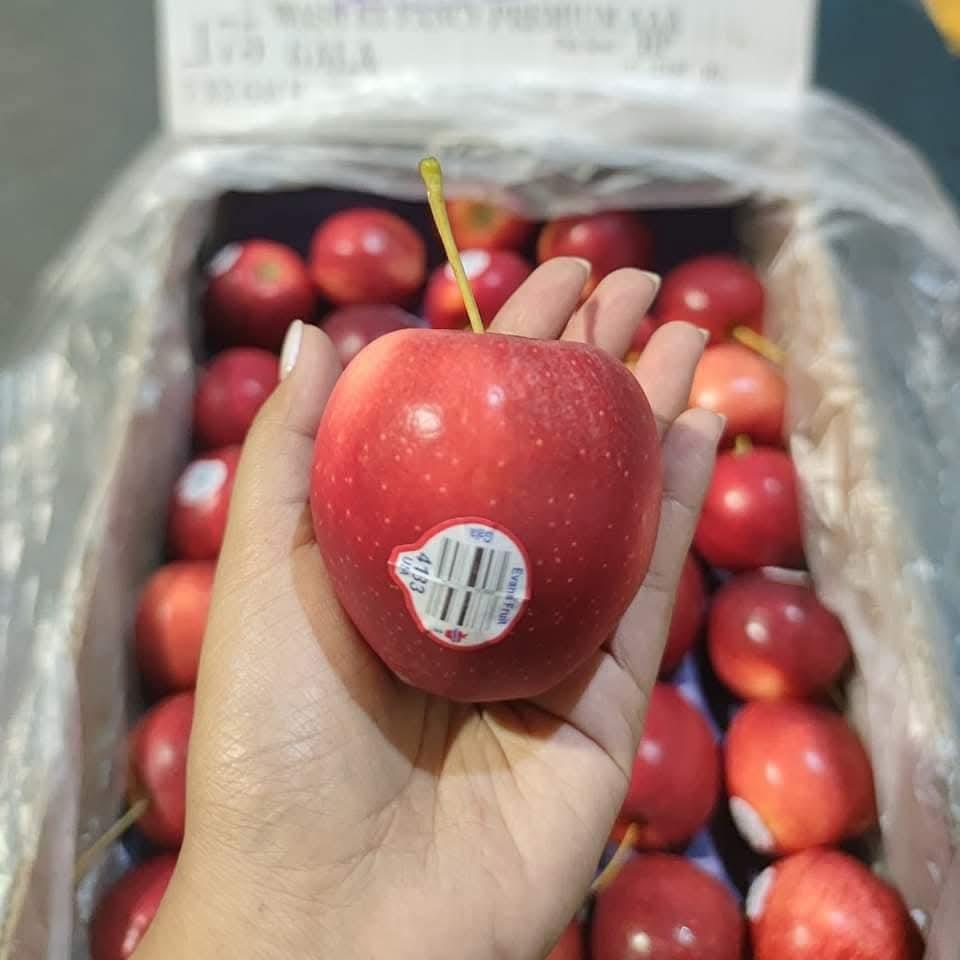non-mango: (315, 318, 670, 707)
